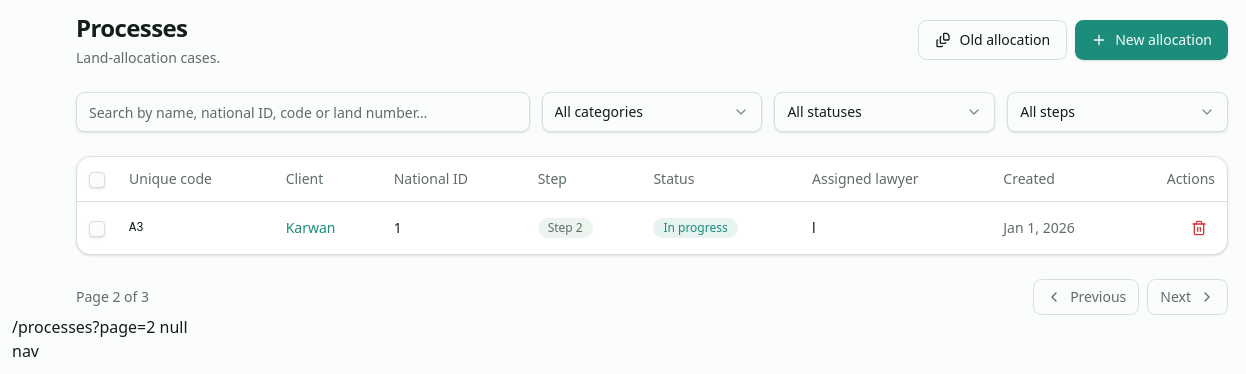
Test case: ProcessesPage filters in the URL › writes a changed filter to the URL and returns to the first page
This screenshot has width=1246, height=374.
Select "Complete" in the 2nd dropdown showing "All statuses": {"x": 885, "y": 112} left=774, top=92, right=995, bottom=132
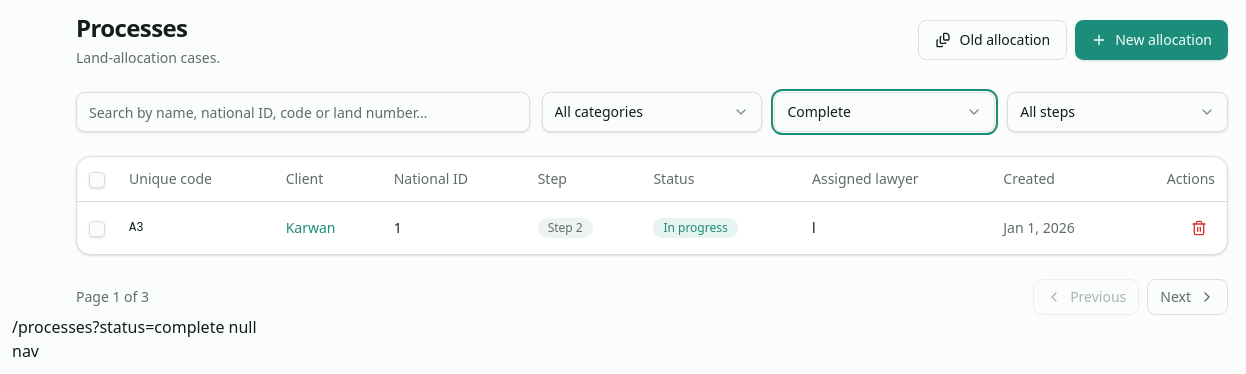
Now the text with test id "where" reads "/processes?status=complete null", box left=12, top=316, right=257, bottom=338
